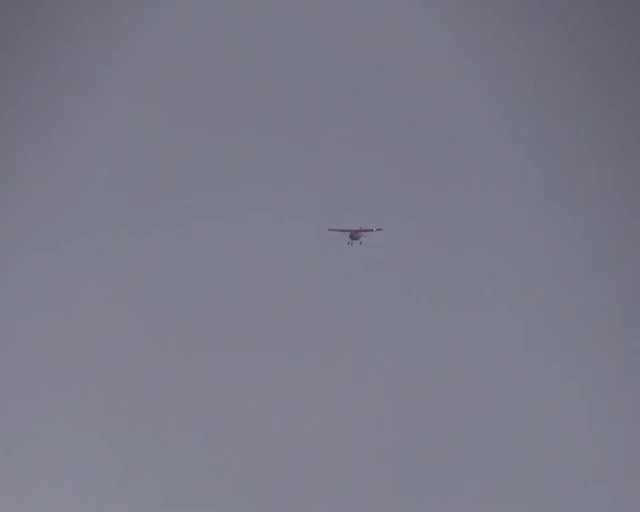AIRPLANE: (327, 226, 383, 245)
